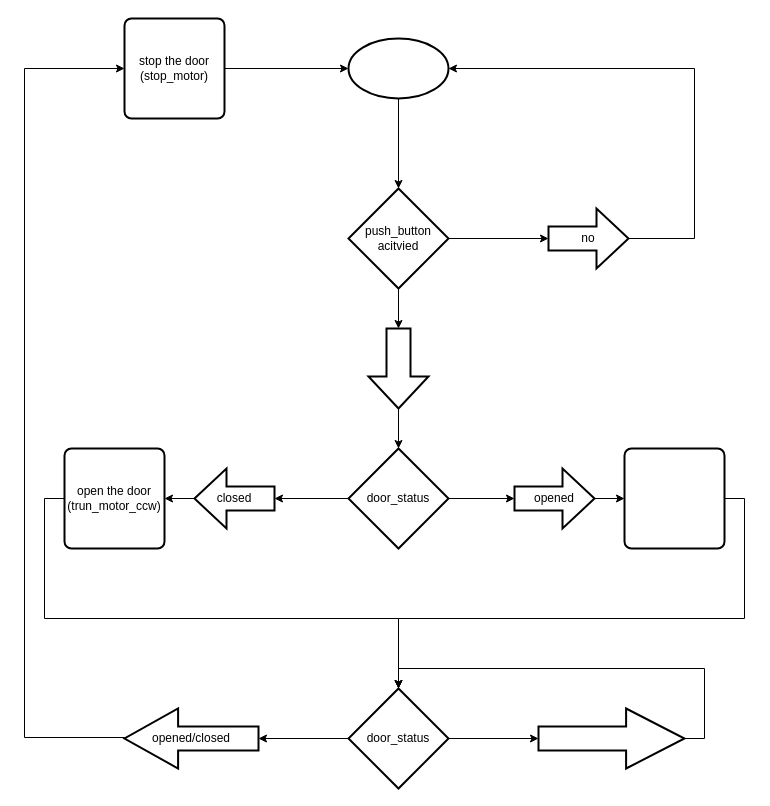
This 770x806 diagram has some shape labels left out. Here are the shapes that lost their labels. From the top down, the centre of each, then its label:
pixel 398 68: start (infinty_loop)
pixel 398 368: yes
pixel 674 498: close the door (trun_motor_cw)
pixel 611 738: opening/closing
